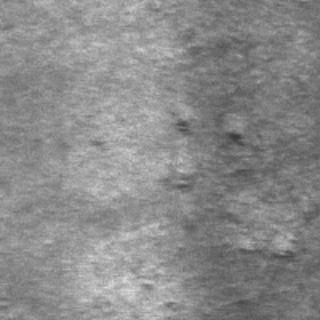rolled pit: (168, 112, 314, 268)
